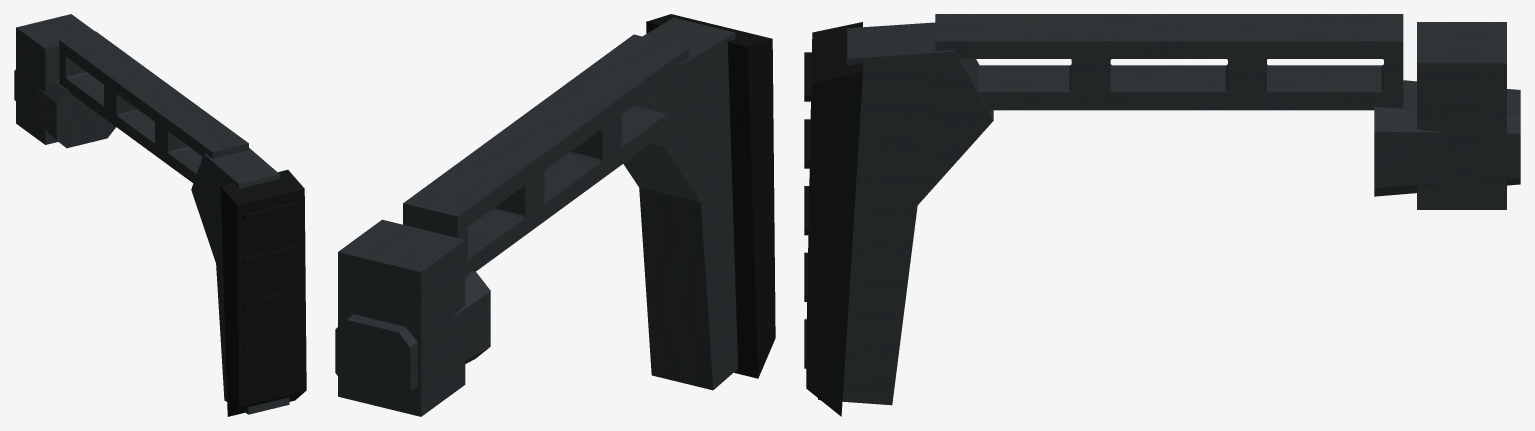
File: mcx_compact.glb
3 views of the same model, side by side, from view 1: azimuth 30°, elevation 25°; view 2: azimuth 150°, elevation 25°; view 3: azimuth 270°, elevation 25° (orthographic). The views are drawn at different scales.
Parts seen in each view (by area): view 1: stock__mcx_compact_LOD0_RAID_Secondary_Original_steel, stock__mcx_compact_LOD0_RAID_Secondary_Original_rubber, stock__mcx_compact_LOD1_RAID_Secondary_Original_steel, stock__mcx_compact_LOD1_RAID_Secondary_Original_rubber; view 2: stock__mcx_compact_LOD0_RAID_Secondary_Original_steel, stock__mcx_compact_LOD1_RAID_Secondary_Original_steel, stock__mcx_compact_LOD1_RAID_Secondary_Original_rubber, stock__mcx_compact_LOD0_RAID_Secondary_Original_rubber; view 3: stock__mcx_compact_LOD0_RAID_Secondary_Original_steel, stock__mcx_compact_LOD1_RAID_Secondary_Original_steel, stock__mcx_compact_LOD0_RAID_Secondary_Original_rubber, stock__mcx_compact_LOD1_RAID_Secondary_Original_rubber.
Boxes of the visible parts, box(x1,y1,x2,y2) form: stock__mcx_compact_LOD0_RAID_Secondary_Original_steel: box(14, 14, 289, 414); stock__mcx_compact_LOD0_RAID_Secondary_Original_rubber: box(221, 171, 304, 415); stock__mcx_compact_LOD1_RAID_Secondary_Original_steel: box(59, 31, 248, 183); stock__mcx_compact_LOD1_RAID_Secondary_Original_rubber: box(220, 169, 306, 416); stock__mcx_compact_LOD0_RAID_Secondary_Original_steel: box(335, 17, 737, 416); stock__mcx_compact_LOD1_RAID_Secondary_Original_steel: box(403, 34, 688, 275); stock__mcx_compact_LOD1_RAID_Secondary_Original_rubber: box(646, 14, 775, 378); stock__mcx_compact_LOD0_RAID_Secondary_Original_rubber: box(648, 15, 773, 374); stock__mcx_compact_LOD0_RAID_Secondary_Original_steel: box(818, 15, 1520, 405); stock__mcx_compact_LOD1_RAID_Secondary_Original_steel: box(935, 14, 1403, 110); stock__mcx_compact_LOD0_RAID_Secondary_Original_rubber: box(804, 24, 861, 406); stock__mcx_compact_LOD1_RAID_Secondary_Original_rubber: box(806, 22, 862, 416).
Bounding box in the file's own units: 0.061 × 0.206 × 0.367.
2 materials, 2 textured.
